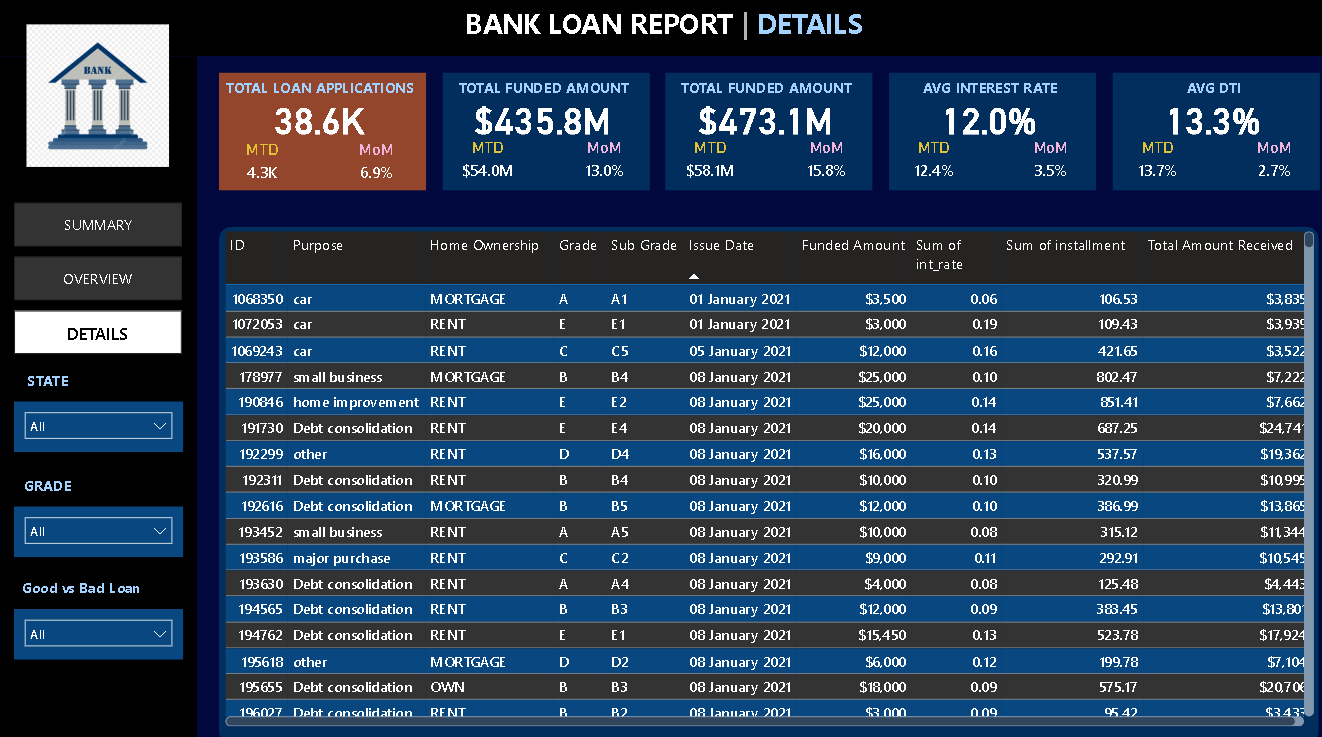

What the dashboard file says about the page in this screenshot:
{"tool":"powerbi","page":{"name":"DETAILS","canvas":[1280,720],"ordinal":2},"visuals":[{"type":"shape","box":[0,55.7,191.4,664.3],"z":0},{"type":"shape","box":[213.4,71.6,199.9,113.4],"z":0,"group":"g1"},{"type":"shape","box":[428.8,71.6,199.9,113.4],"z":0,"group":"g2"},{"type":"shape","box":[644.2,71.6,199.9,113.4],"z":0,"group":"g3"},{"type":"shape","box":[859.6,71.6,199.9,113.4],"z":0,"group":"g4"},{"type":"shape","box":[1075,71.6,199.9,113.4],"z":0,"group":"g5"},{"type":"shape","box":[0,0,1280.3,55],"z":1000},{"type":"card","fields":{"Values":["bank_loan_data.Total Loan Applications"]},"box":[233.7,94.6,152.6,41.9],"z":1000,"group":"g1"},{"type":"card","fields":{"Values":["bank_loan_data.Total Funded Amount"]},"box":[449.1,94.6,152.6,41.9],"z":1000,"group":"g2"},{"type":"card","fields":{"Values":["bank_loan_data.Total Amount Received"]},"box":[664.5,94.6,152.6,41.9],"z":1000,"group":"g3"},{"type":"card","fields":{"Values":["bank_loan_data.Avg Interest Rate"]},"box":[879.9,94.6,152.6,41.9],"z":1000,"group":"g4"},{"type":"card","fields":{"Values":["bank_loan_data.Avg DTI"]},"box":[1095.3,94.6,152.6,41.9],"z":1000,"group":"g5"},{"type":"textbox","box":[445.7,0,448.4,45.9],"z":2000},{"type":"textbox","box":[208,71.6,205.3,33.8],"z":2000,"group":"g1"},{"type":"textbox","box":[423.4,71.6,205.3,33.8],"z":2000,"group":"g2"},{"type":"textbox","box":[638.8,71.6,205.3,33.8],"z":2000,"group":"g3"},{"type":"textbox","box":[854.2,71.6,205.3,33.8],"z":2000,"group":"g4"},{"type":"textbox","box":[1069.6,71.6,205.3,33.8],"z":2000,"group":"g5"},{"type":"card","title":"MTD","fields":{"Values":["bank_loan_data.MTD Funded Amount"]},"box":[438.4,134.7,67.5,50],"z":3000,"group":"g2"},{"type":"card","title":"MTD","fields":{"Values":["bank_loan_data.MTD Total Amount Recieved"]},"box":[653.8,134.7,67.5,50],"z":3000,"group":"g3"},{"type":"card","title":"MTD","fields":{"Values":["bank_loan_data.MTD Avg Int Rate"]},"box":[869.2,134.7,67.5,50],"z":3000,"group":"g4"},{"type":"card","title":"MTD","fields":{"Values":["bank_loan_data.MTD Avg DTI"]},"box":[1084.6,134.7,67.5,50],"z":3000,"group":"g5"},{"type":"card","title":"MTD","fields":{"Values":["bank_loan_data.MTD Loan Applications"]},"box":[233.7,136.4,43.2,48.6],"z":3000,"group":"g1"},{"type":"textbox","box":[14.3,455.7,62.9,34.3],"z":3000},{"type":"card","title":"MoM","fields":{"Values":["bank_loan_data.MoM Total Funded Amount"]},"box":[558.6,134.7,51.3,50],"z":4000,"group":"g2"},{"type":"card","title":"MoM","fields":{"Values":["bank_loan_data.MoM Total Amount Recieved"]},"box":[774,134.7,51.3,50],"z":4000,"group":"g3"},{"type":"card","title":"MoM","fields":{"Values":["bank_loan_data.MoM Avg Int Rate"]},"box":[989.4,134.7,51.3,50],"z":4000,"group":"g4"},{"type":"card","title":"MoM","fields":{"Values":["bank_loan_data.MoM Avg DTI"]},"box":[1204.8,134.7,51.3,50],"z":4000,"group":"g5"},{"type":"card","title":"MoM","fields":{"Values":["bank_loan_data.MoM Loan Application"]},"box":[343.1,136.4,43.2,48.6],"z":4000,"group":"g1"},{"type":"textbox","box":[2.9,554.3,154.3,34.3],"z":4000},{"type":"group","id":"g1","title":"Group 1","box":[208,71.6,205.3,113.4],"z":5000},{"type":"group","id":"g2","title":"Group 1","box":[423.4,71.6,205.3,113.4],"z":6000},{"type":"shape","box":[212.9,220,1061.4,500],"z":7000},{"type":"group","id":"g3","title":"Group 1","box":[638.8,71.6,205.3,113.4],"z":8000},{"type":"group","id":"g4","title":"Group 1","box":[854.2,71.6,205.3,113.4],"z":9000},{"type":"group","id":"g5","title":"Group 1","box":[1069.6,71.6,205.3,113.4],"z":10000},{"type":"slicer","fields":{"Values":["bank_loan_data.address_state"]},"box":[14.3,388.6,162.9,48.6],"z":11000},{"type":"textbox","box":[14.3,354.3,55.7,34.3],"z":12000},{"type":"slicer","fields":{"Values":["bank_loan_data.grade"]},"box":[14.3,490,162.9,48.6],"z":13000},{"type":"slicer","fields":{"Values":["bank_loan_data.Good vs Bad Loan"]},"box":[14.3,588.6,162.9,48.6],"z":14000},{"type":"tableEx","fields":{"Values":["bank_loan_data.id","bank_loan_data.purpose","bank_loan_data.home_ownership","bank_loan_data.grade","bank_loan_data.sub_grade","bank_loan_data.issue_date","bank_loan_data.Total Funded Amount","Sum(bank_loan_data.int_rate)","Sum(bank_loan_data.installment)","bank_loan_data.Total Amount Received"]},"box":[212.9,220,1061.4,487.1],"z":15000},{"type":"pageNavigator","box":[14.3,197.1,162.9,147.1],"z":16000},{"type":"image","box":[21.4,15.7,147.1,155.7],"z":17000}]}

Visuals, with their boxes in screenshot pixels (x1, y1, x2, y2), scaled from the page's 1280x720 canvas onto the 1322x737 screenshot:
shape: BBox(0, 57, 198, 736)
shape: BBox(220, 73, 427, 189)
shape: BBox(443, 73, 649, 189)
shape: BBox(665, 73, 872, 189)
shape: BBox(888, 73, 1094, 189)
shape: BBox(1110, 73, 1317, 189)
shape: BBox(0, 0, 1321, 56)
card - bank_loan_data.Total Loan Applications: BBox(241, 97, 399, 140)
card - bank_loan_data.Total Funded Amount: BBox(464, 97, 621, 140)
card - bank_loan_data.Total Amount Received: BBox(686, 97, 844, 140)
card - bank_loan_data.Avg Interest Rate: BBox(909, 97, 1066, 140)
card - bank_loan_data.Avg DTI: BBox(1131, 97, 1289, 140)
textbox: BBox(460, 0, 923, 47)
textbox: BBox(215, 73, 427, 108)
textbox: BBox(437, 73, 649, 108)
textbox: BBox(660, 73, 872, 108)
textbox: BBox(882, 73, 1094, 108)
textbox: BBox(1105, 73, 1317, 108)
"MTD" card: BBox(453, 138, 522, 189)
"MTD" card: BBox(675, 138, 745, 189)
"MTD" card: BBox(898, 138, 967, 189)
"MTD" card: BBox(1120, 138, 1190, 189)
"MTD" card: BBox(241, 140, 286, 189)
textbox: BBox(15, 466, 80, 502)
"MoM" card: BBox(577, 138, 630, 189)
"MoM" card: BBox(799, 138, 852, 189)
"MoM" card: BBox(1022, 138, 1075, 189)
"MoM" card: BBox(1244, 138, 1297, 189)
"MoM" card: BBox(354, 140, 399, 189)
textbox: BBox(3, 567, 162, 602)
"Group 1" group: BBox(215, 73, 427, 189)
"Group 1" group: BBox(437, 73, 649, 189)
shape: BBox(220, 225, 1316, 736)
"Group 1" group: BBox(660, 73, 872, 189)
"Group 1" group: BBox(882, 73, 1094, 189)
"Group 1" group: BBox(1105, 73, 1317, 189)
slicer - bank_loan_data.address_state: BBox(15, 398, 183, 448)
textbox: BBox(15, 363, 72, 398)
slicer - bank_loan_data.grade: BBox(15, 502, 183, 551)
slicer - bank_loan_data.Good vs Bad Loan: BBox(15, 602, 183, 652)
tableEx - bank_loan_data.id x bank_loan_data.purpose: BBox(220, 225, 1316, 724)
pageNavigator: BBox(15, 202, 183, 352)
image: BBox(22, 16, 174, 175)
